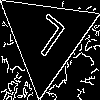L: (21, 13, 68, 66)
